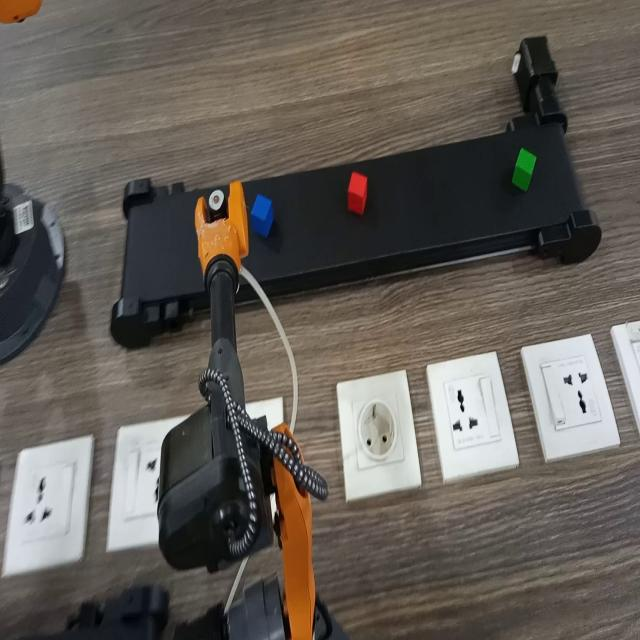cube: (512, 141, 545, 194), (250, 190, 283, 241), (346, 166, 371, 216)
